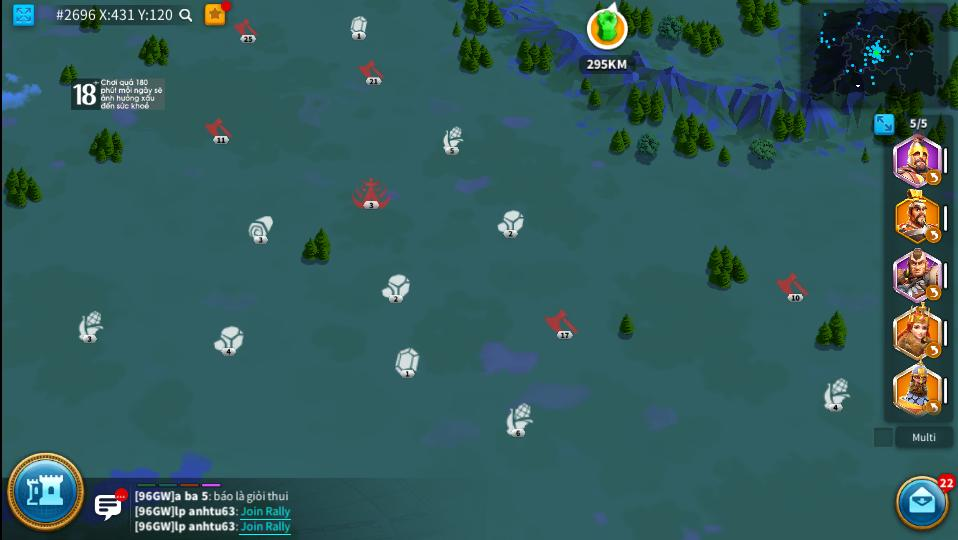gem-z-out: (394, 347, 420, 380), (351, 15, 366, 39)
march_returning: (925, 228, 942, 242), (926, 170, 940, 185), (927, 400, 941, 415), (926, 285, 940, 299), (928, 343, 940, 357)
